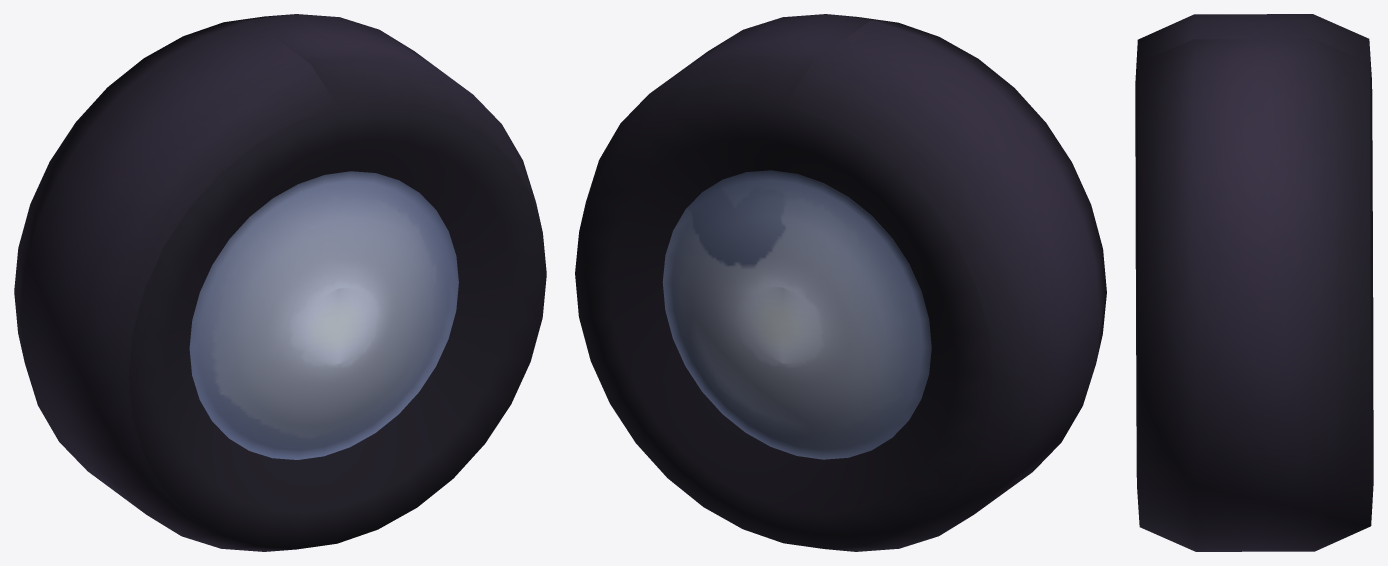
Rendered from rodanova.fbx.
3 renders of one model, left to right at view 1: azimuth 30°, elevation 25°; view 2: azimuth 150°, elevation 25°; view 3: azimuth 270°, elevation 25°, orthographic.
Parts seen in each view (by area): view 1: fe.001; view 2: fe.001; view 3: fe.001.
Boxes of the visible parts, x1,y1,x2,y2 form: fe.001: (14,14,546,551); fe.001: (575,14,1106,551); fe.001: (1135,14,1373,551).
Size of the model in its own units: 37.52 by 37.55 by 16.61.
